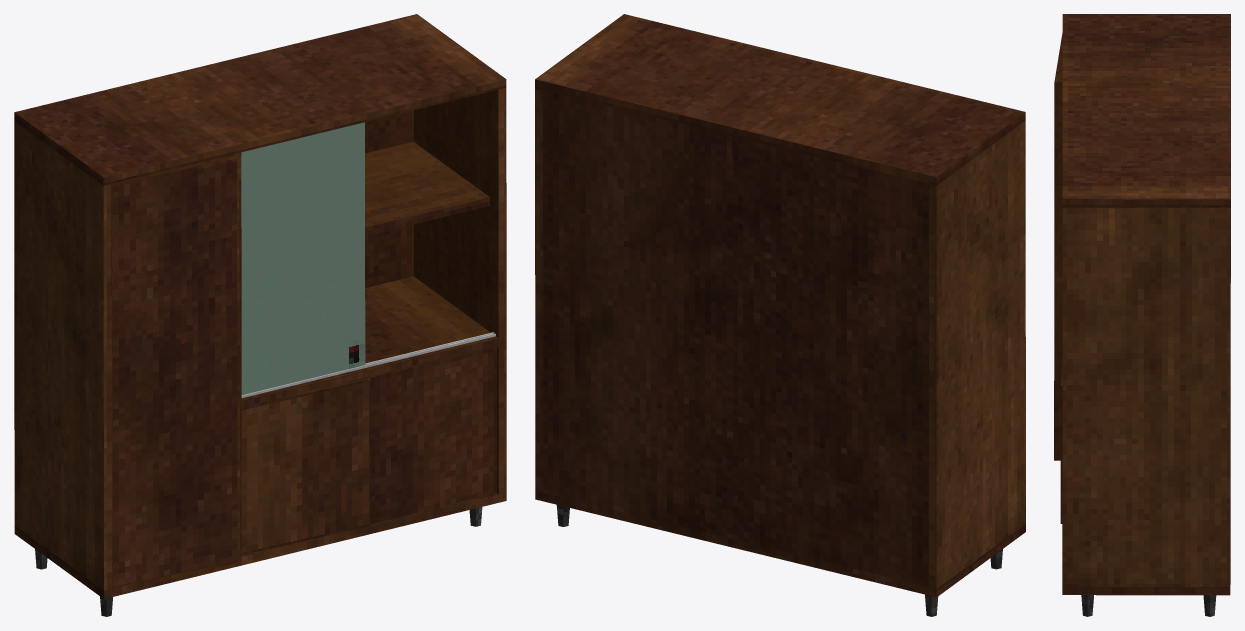
3 views of the same model, side by side, from view 1: azimuth 30°, elevation 25°; view 2: azimuth 150°, elevation 25°; view 3: azimuth 270°, elevation 25° (orthographic). The views are drawn at different scales.
Size of the model in its own units: 2.22 by 2.37 by 0.8967.
Materials: 1 (1 with a texture image).
